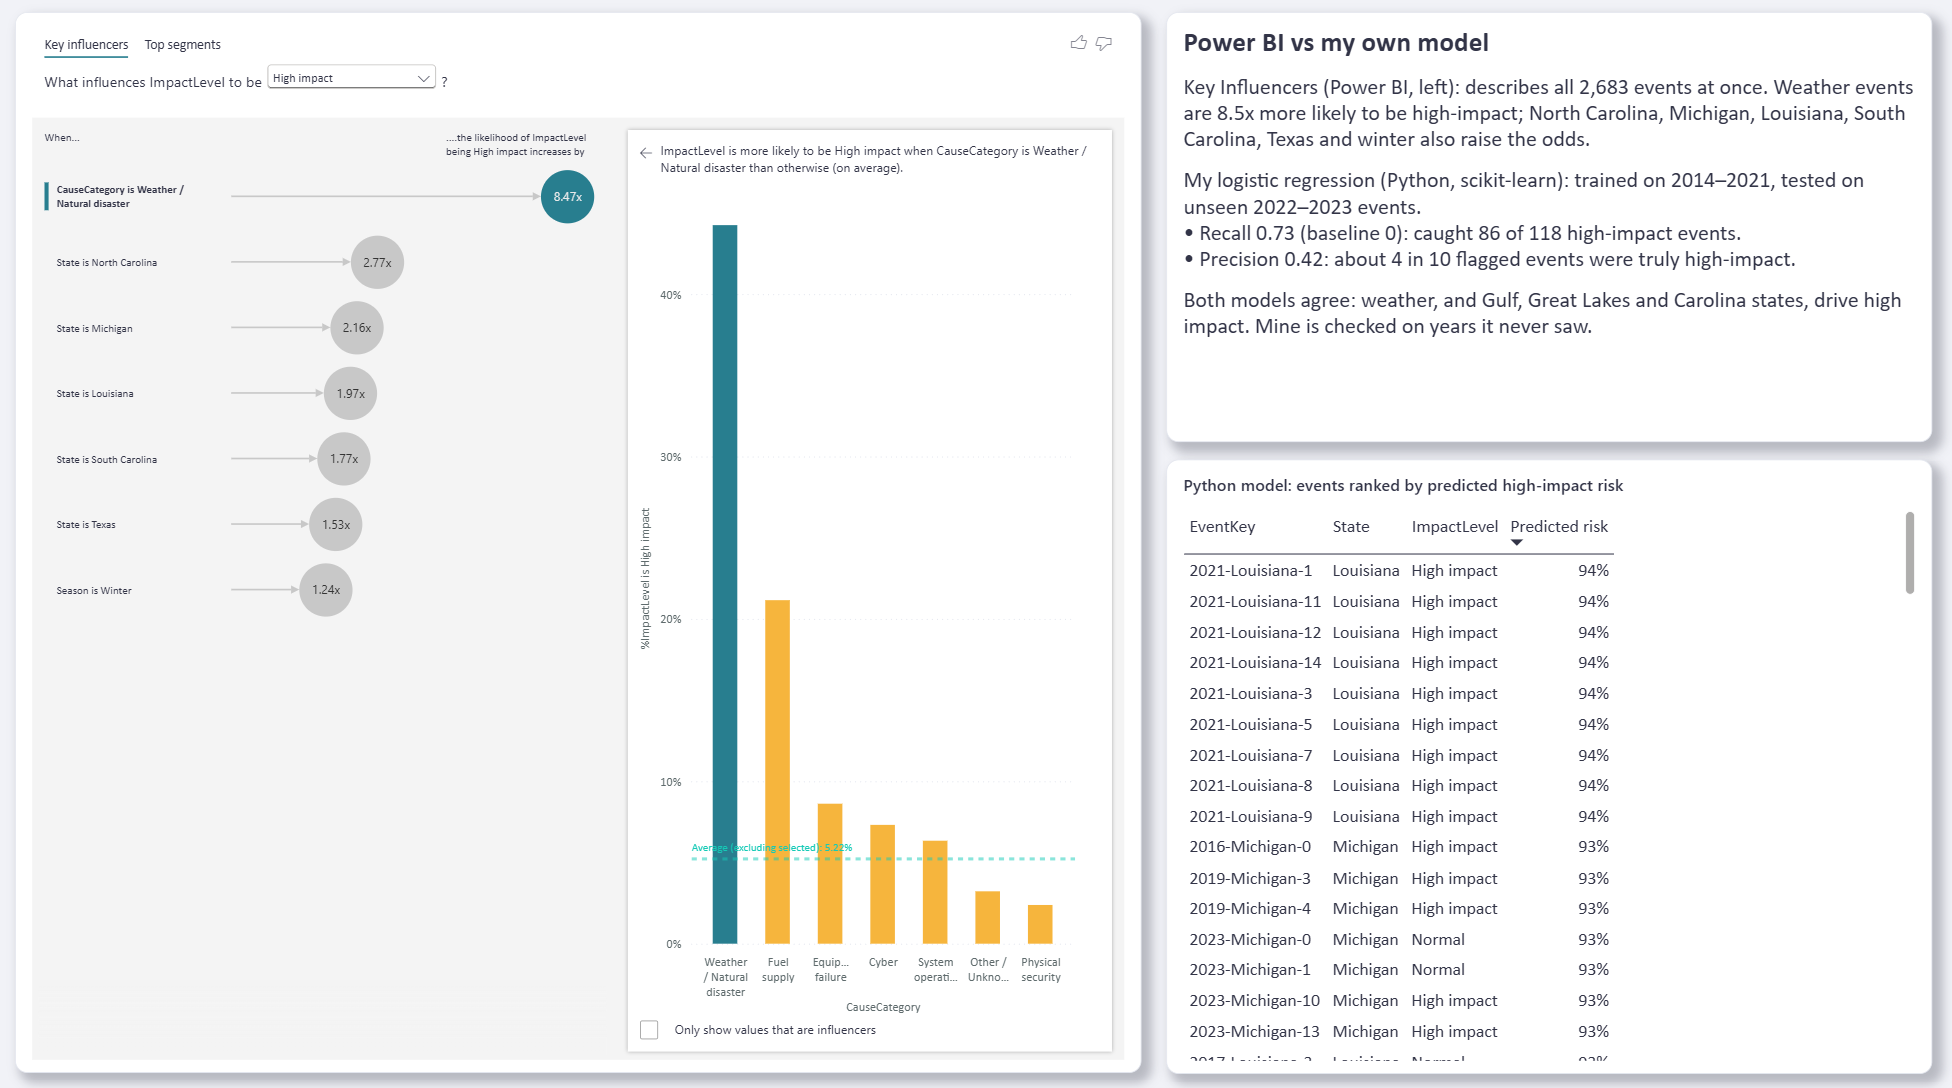

Layout of this report page (visuals, bound fields, positions):
{"tool":"powerbi","page":{"name":"ML","canvas":[1920,1080],"ordinal":2},"visuals":[{"type":"keyDriversVisual","fields":{"ExplainBy":["DimEvent.State","DimEvent.Season","DimEvent.CauseCategory"],"Target":["DimEvent.ImpactLevel"]},"box":[24,20,1100,1036],"z":2001},{"type":"textbox","box":[1148,20,748,420],"z":2002},{"type":"tableEx","title":"Python model: events ranked by predicted high-impact risk","fields":{"Values":["DimEvent.EventKey","DimEvent.State","DimEvent.ImpactLevel","Sum(event_risk.Risk)"]},"box":[1148,456,748,600],"z":2003}]}

Visuals, with their boxes in screenshot pixels (x1, y1, x2, y2), scaled from the page's 1920x1080 canvas onto the 1952x1088 screenshot:
keyDriversVisual - DimEvent.State x DimEvent.Season: 24/20/1143/1064
textbox: 1167/20/1928/443
"Python model: events ranked by predicted high-impact risk" tableEx: 1167/459/1928/1064
